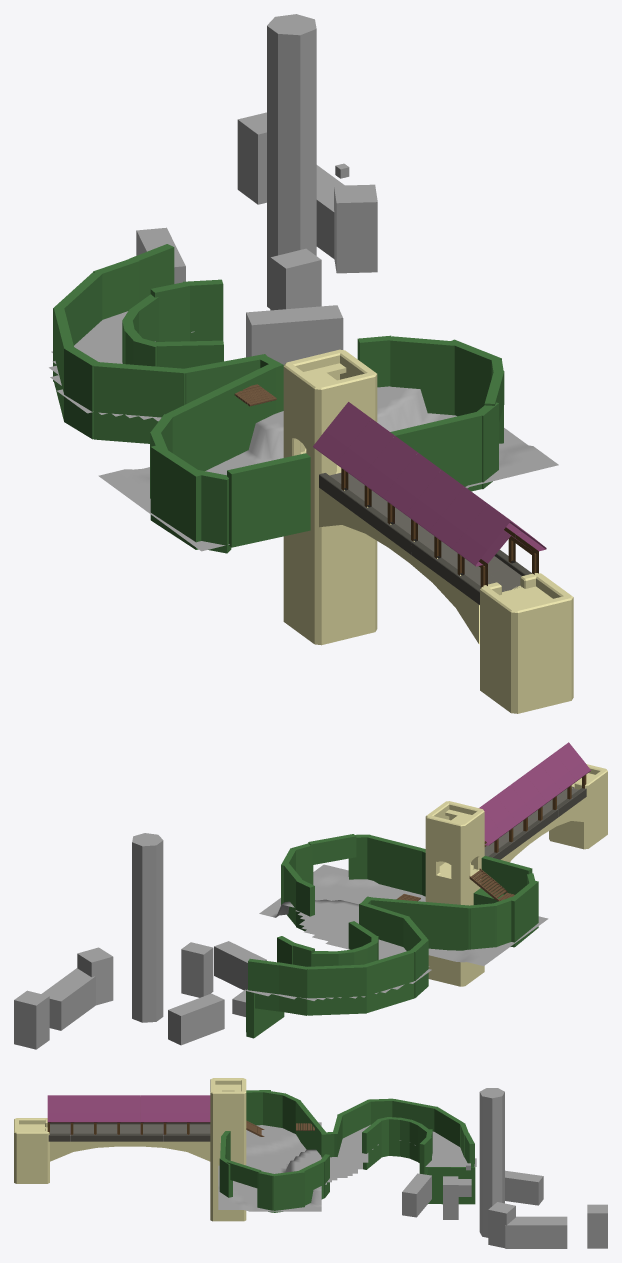
File: EntranceBlockOutTest.fbx
The picture shows the model from 3 angles, top to bottom: view 1: azimuth 30°, elevation 25°; view 2: azimuth 150°, elevation 25°; view 3: azimuth 270°, elevation 25°; orthographic projection. The views are drawn at different scales.
Parts seen in each view (by area): view 1: Tower, pCylinder1, Tower1, Ground90, Wall55, Wall61, Platform, BridgeSegment7, Wall48, Wall45, Wall54, pCube1 (+27 smaller); view 2: Tower, pCylinder1, Ground90, Wall64, Wall45, Tower1, Wall63, Platform2, Wall49, pCube2, Ground, pCube3 (+31 smaller); view 3: Ground90, Tower, pCylinder1, Tower1, Ground, pCube2, Bridge, Wall47, Platform2, BridgeSegment, BridgeSegment1, BridgeSegment2 (+33 smaller).
Part boxes in pixels (x1,y1,x2,y2): Tower: (283, 349, 377, 645); pCylinder1: (267, 14, 316, 308); Tower1: (480, 573, 573, 713); Ground90: (98, 386, 558, 551); Wall55: (227, 453, 310, 547); Wall61: (93, 362, 186, 443); Platform: (246, 305, 343, 365); BridgeSegment7: (452, 504, 546, 604); Wall48: (390, 336, 455, 415); Wall45: (390, 412, 482, 491); Wall54: (150, 445, 203, 549); pCube1: (334, 184, 377, 273); Tower: (425, 801, 484, 986); pCylinder1: (132, 833, 163, 1022); Ground90: (259, 864, 548, 965); Wall64: (307, 964, 366, 1015); Wall45: (367, 835, 425, 894); Tower1: (549, 764, 607, 849); Wall63: (363, 950, 414, 1012); Platform2: (168, 993, 224, 1045); Wall49: (414, 901, 471, 950); pCube2: (41, 968, 95, 1030); Ground: (246, 910, 431, 1000); pCube3: (14, 990, 49, 1049); Ground90: (218, 1122, 321, 1211); Tower: (210, 1078, 246, 1221); pCylinder1: (479, 1088, 504, 1237); Tower1: (14, 1118, 49, 1183); Ground: (321, 1125, 476, 1184); pCube2: (505, 1216, 567, 1248); Bridge: (50, 1141, 210, 1161); Wall47: (272, 1170, 304, 1212); Platform2: (505, 1170, 543, 1205); BridgeSegment: (187, 1095, 210, 1141); BridgeSegment1: (163, 1095, 186, 1141); BridgeSegment2: (140, 1095, 163, 1141).
Size of the model in its own units: 51.72 by 37.62 by 115.
